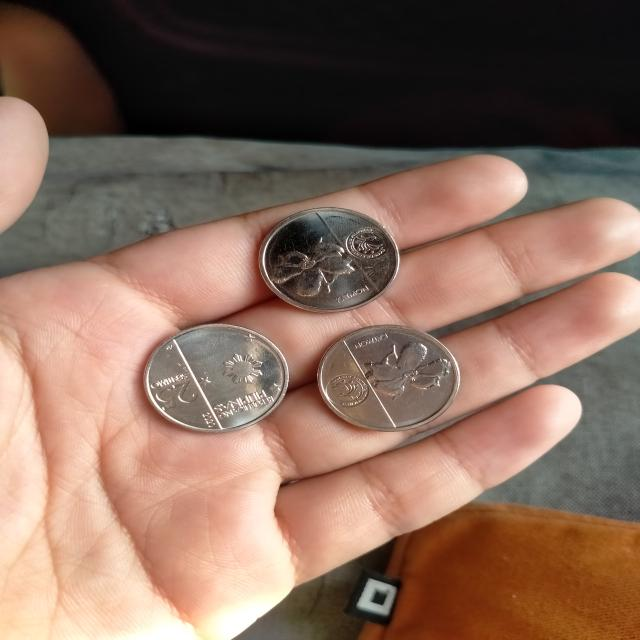25Cent_New_Back: (260, 241, 354, 299), (359, 342, 444, 399)
25Cent_New_Front: (146, 371, 207, 412)
